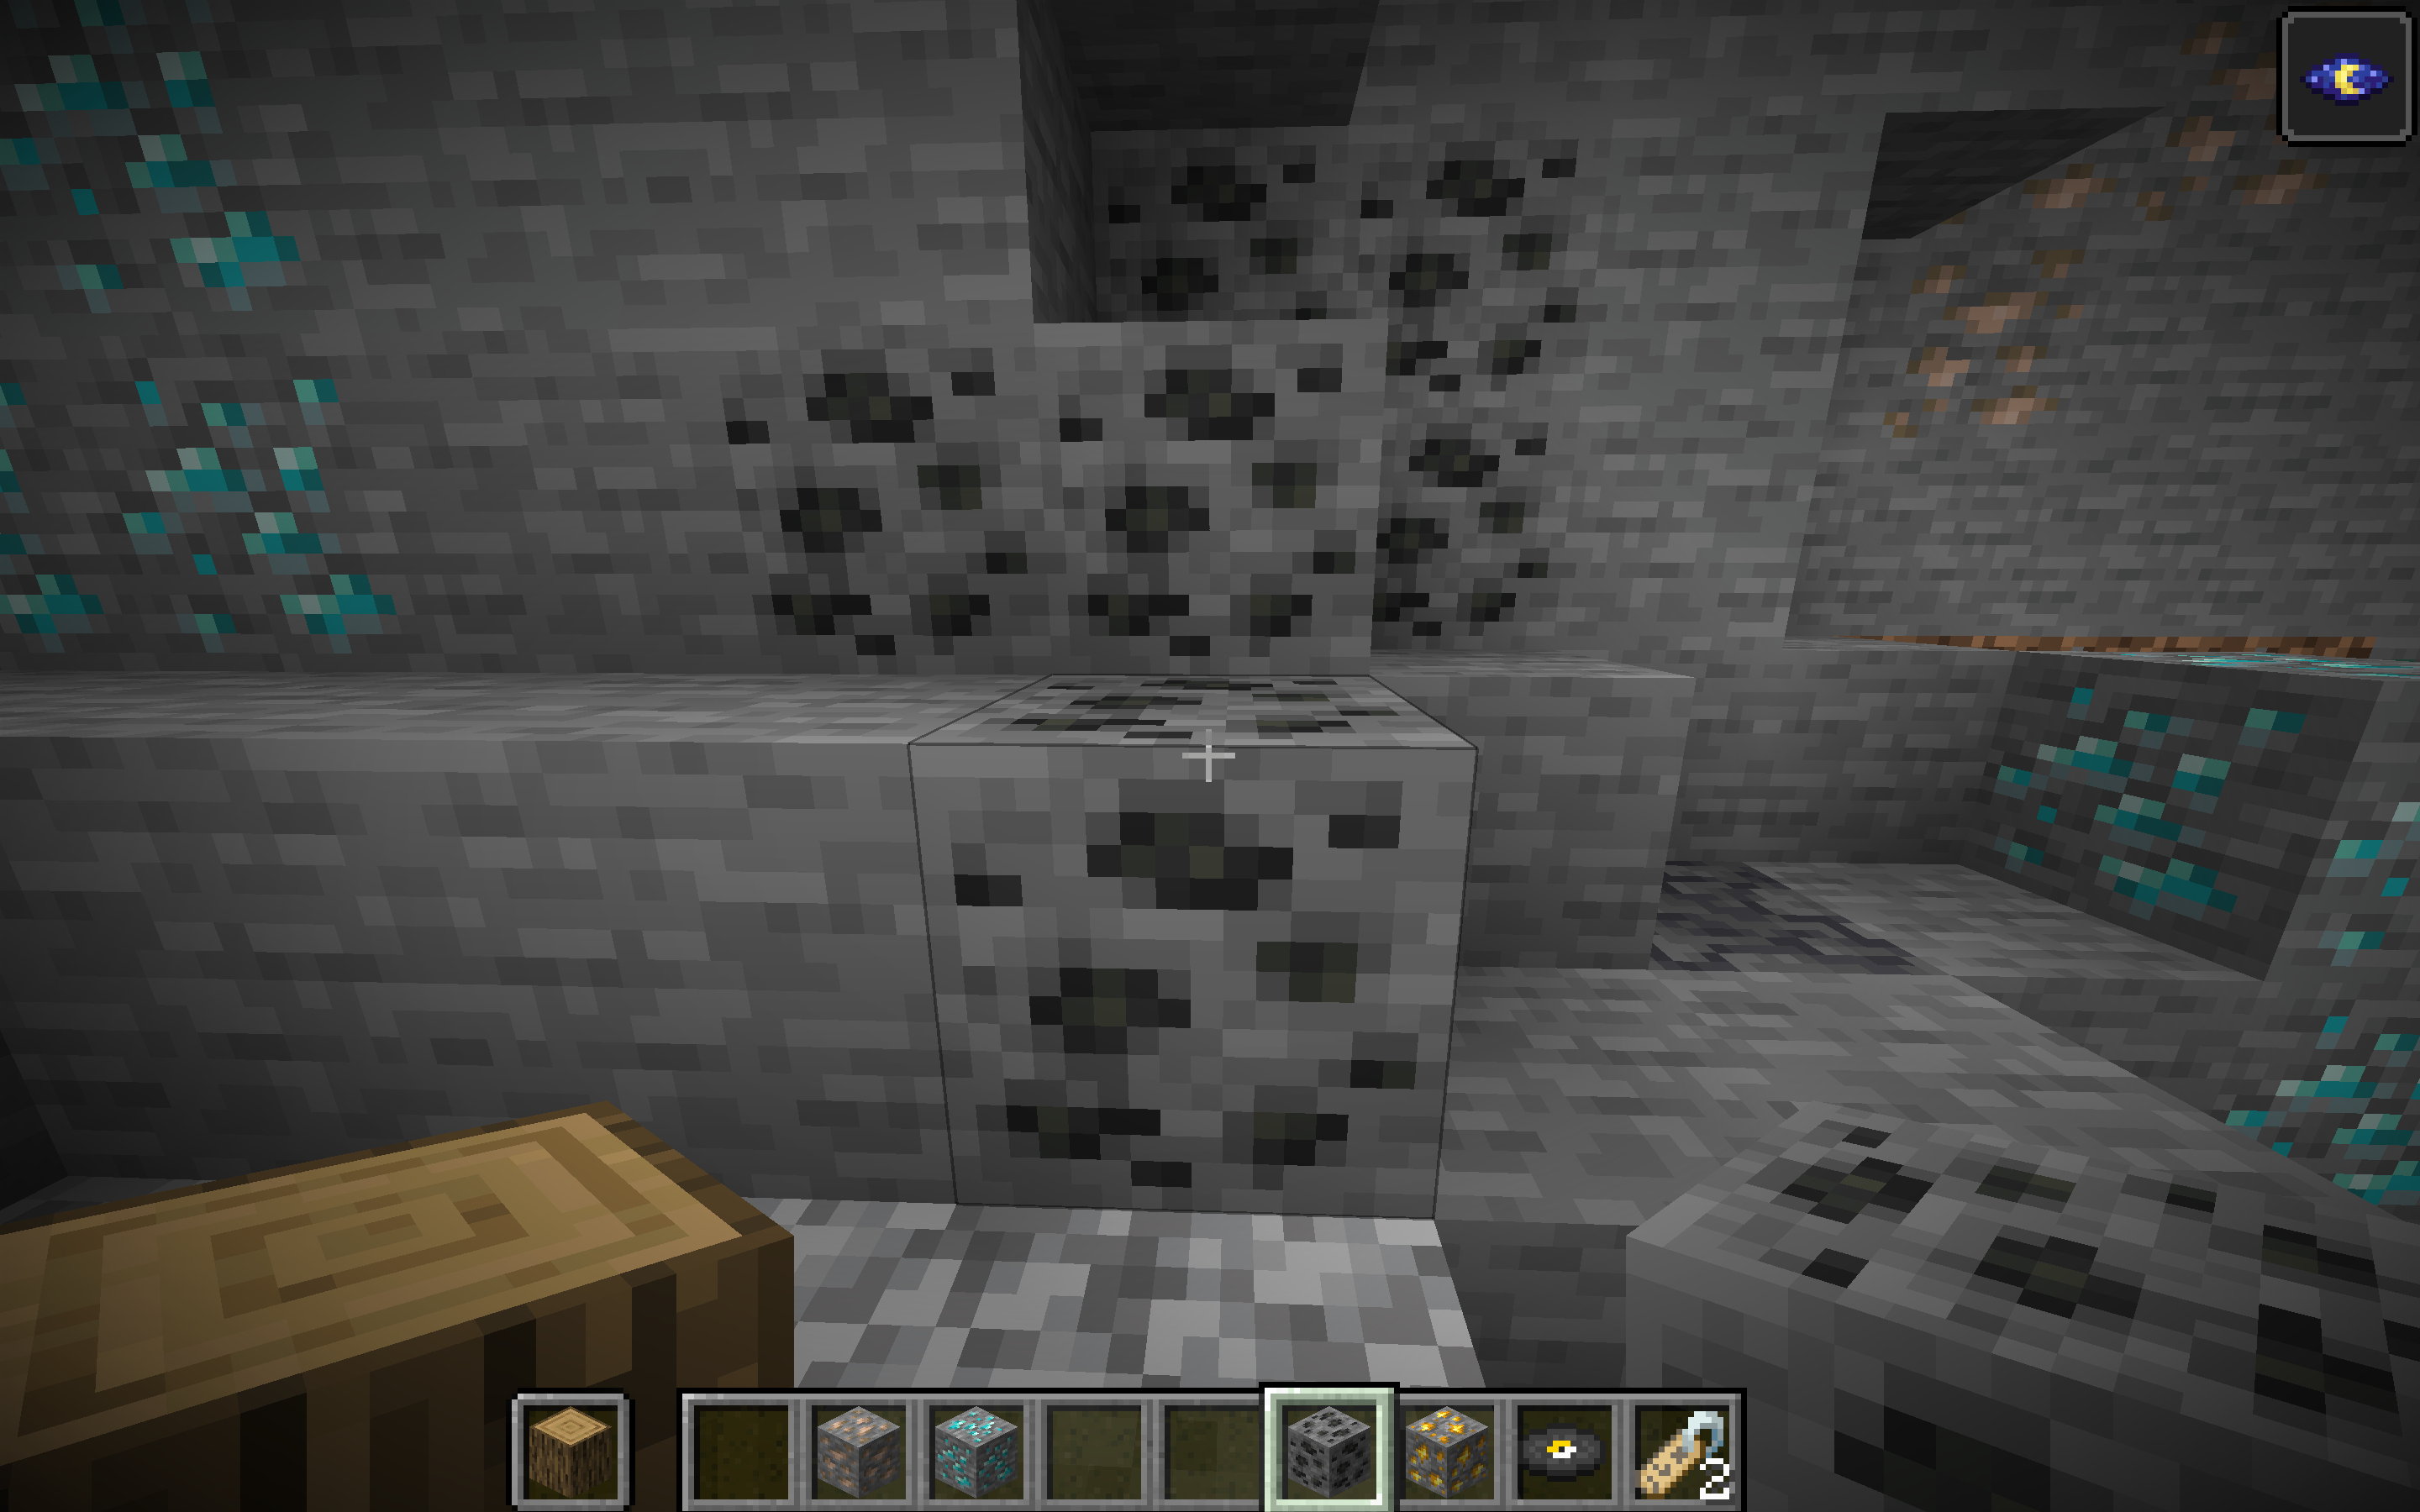coal: (390, 52, 1763, 1157)
